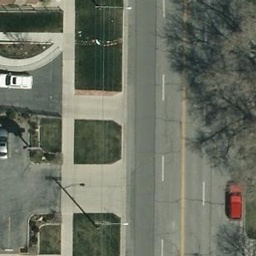car: (225, 184, 244, 219), (1, 71, 33, 91), (1, 129, 8, 161)
